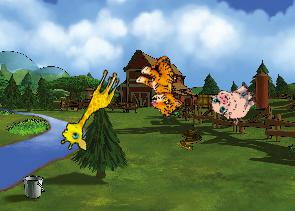giraffe: (56, 62, 123, 156)
pig: (206, 74, 262, 129)
tiger: (128, 50, 197, 120)
